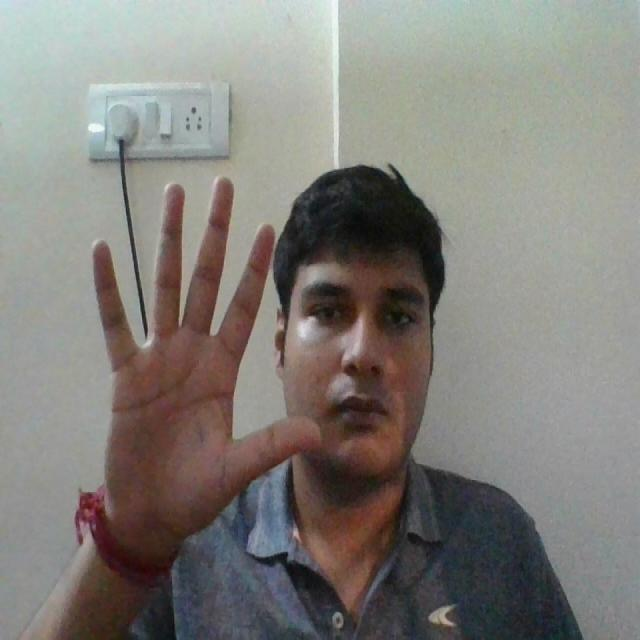Hello: (73, 147, 330, 573)
